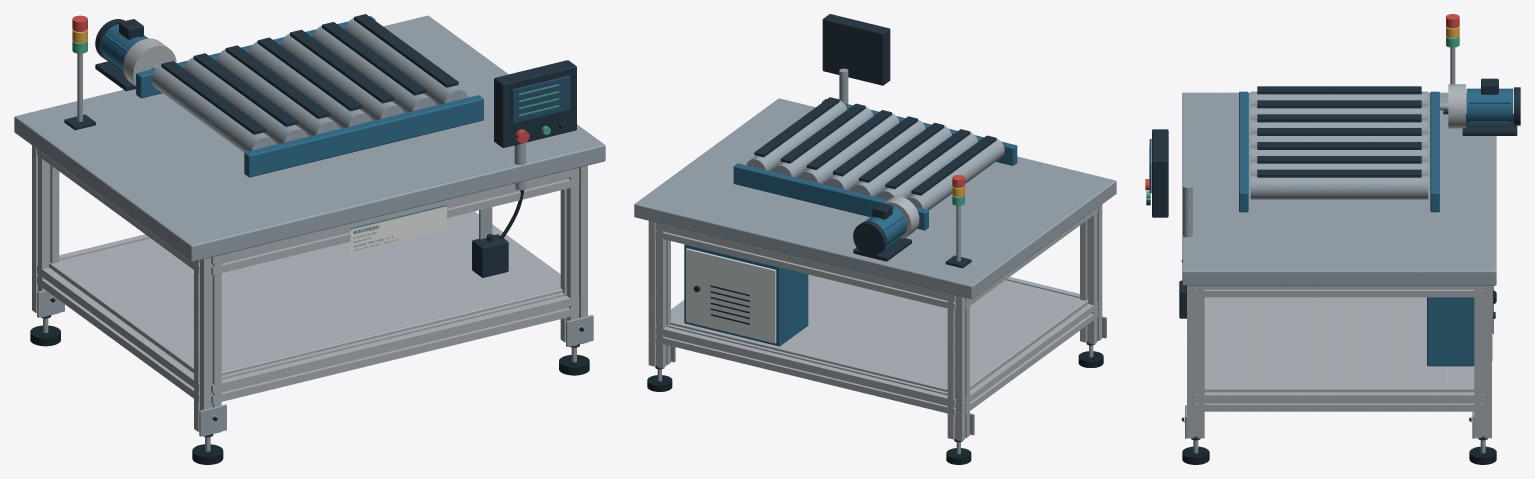
Rendered from modular-belt-cell.glb.
3 views of the same model, side by side, from view 1: azimuth 30°, elevation 25°; view 2: azimuth 150°, elevation 25°; view 3: azimuth 270°, elevation 25° (orthographic). The views are drawn at different scales.
Visible parts, largest first — view 1: ClosedMachineBed_40, LowerShelf_41, SlottedExtrusion_34, TransportRail_72, SlottedExtrusion_35, SlottedExtrusion_11, SlottedExtrusion_36, SlottedExtrusion_27, ConsoleBack_52, SlottedExtrusion_3, TransportRoller_73, OriginalNameplate_65 (+21 smaller); view 2: ClosedMachineBed_40, LowerShelf_41, BackDoor_43, SlottedExtrusion_32, SlottedExtrusion_33, ConsoleBack_52, TransportRail_71, SlottedExtrusion_3, SlottedExtrusion_19, Cabinet_42, SlottedExtrusion_36, SlottedExtrusion_11 (+20 smaller); view 3: ClosedMachineBed_40, LowerShelf_41, SlottedExtrusion_38, TransportRoller_79, SlottedExtrusion_39, Cabinet_42, SlottedExtrusion_19, SlottedExtrusion_27, MotorBody_88, ConsoleBack_52, TransportLink_80, TransportLink_81 (+18 smaller).
Part boxes in pixels (x1=…): ClosedMachineBed_40: x1=14, y1=15, x2=605, y2=261; LowerShelf_41: x1=49, y1=213, x2=562, y2=375; SlottedExtrusion_34: x1=211, y1=292, x2=579, y2=403; TransportRail_72: x1=244, y1=95, x2=483, y2=177; SlottedExtrusion_35: x1=211, y1=167, x2=579, y2=274; SlottedExtrusion_11: x1=194, y1=255, x2=221, y2=436; SlottedExtrusion_36: x1=37, y1=265, x2=199, y2=402; SlottedExtrusion_27: x1=560, y1=165, x2=587, y2=346; ConsoleBack_52: x1=494, y1=60, x2=576, y2=147; SlottedExtrusion_3: x1=32, y1=145, x2=59, y2=317; TransportRoller_73: x1=151, y1=65, x2=275, y2=152; OriginalNameplate_65: x1=350, y1=205, x2=446, y2=253; ClosedMachineBed_40: x1=634, y1=98, x2=1116, y2=299; LowerShelf_41: x1=669, y1=274, x2=1088, y2=391; BackDoor_43: x1=686, y1=248, x2=776, y2=343; SlottedExtrusion_32: x1=655, y1=324, x2=955, y2=415; SlottedExtrusion_33: x1=655, y1=222, x2=955, y2=310; ConsoleBack_52: x1=822, y1=14, x2=890, y2=85; TransportRail_71: x1=733, y1=163, x2=928, y2=230; SlottedExtrusion_3: x1=947, y1=294, x2=969, y2=441; SlottedExtrusion_19: x1=648, y1=221, x2=670, y2=368; Cabinet_42: x1=684, y1=244, x2=808, y2=346; SlottedExtrusion_36: x1=965, y1=302, x2=1098, y2=413; SlottedExtrusion_11: x1=1080, y1=204, x2=1102, y2=344; ClosedMachineBed_40: x1=1182, y1=92, x2=1496, y2=285; LowerShelf_41: x1=1204, y1=297, x2=1474, y2=392; SlottedExtrusion_38: x1=1196, y1=392, x2=1482, y2=411; TransportRoller_79: x1=1250, y1=175, x2=1428, y2=199; SlottedExtrusion_39: x1=1196, y1=285, x2=1482, y2=297; Cabinet_42: x1=1427, y1=297, x2=1474, y2=366; SlottedExtrusion_19: x1=1474, y1=285, x2=1491, y2=438; SlottedExtrusion_27: x1=1187, y1=285, x2=1204, y2=438; MotorBody_88: x1=1466, y1=88, x2=1513, y2=124; ConsoleBack_52: x1=1152, y1=129, x2=1168, y2=217; TransportLink_80: x1=1257, y1=86, x2=1421, y2=94; TransportLink_81: x1=1257, y1=100, x2=1421, y2=108.
Bounding box in the file's own units: 1.55 × 1.18 × 1.37.
Materials: 11 (3 with a texture image).
